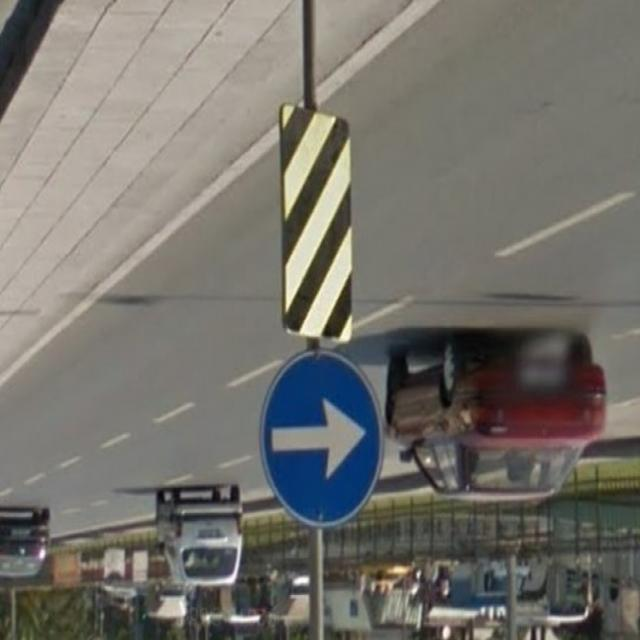Turn Right: (262, 350, 390, 531)
